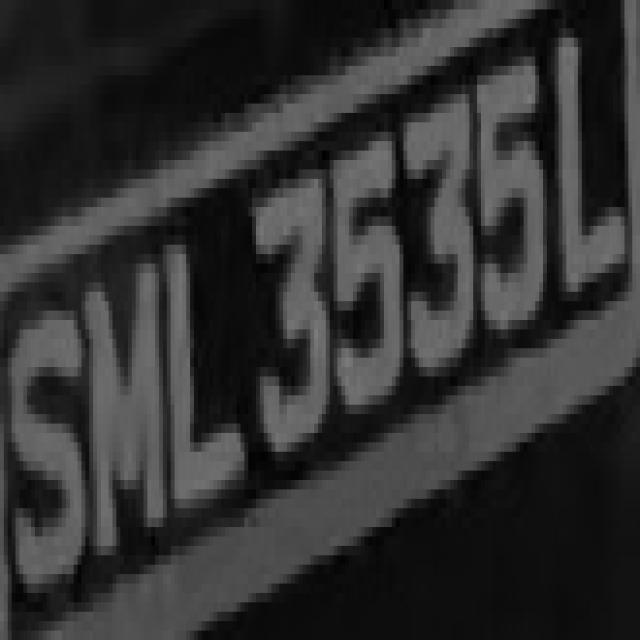3: (240, 132, 334, 470), (392, 84, 473, 404)
5: (310, 113, 400, 433), (469, 38, 551, 376)
L: (156, 188, 244, 536), (547, 28, 632, 311)
M: (81, 216, 163, 546)
S: (8, 264, 89, 621)
